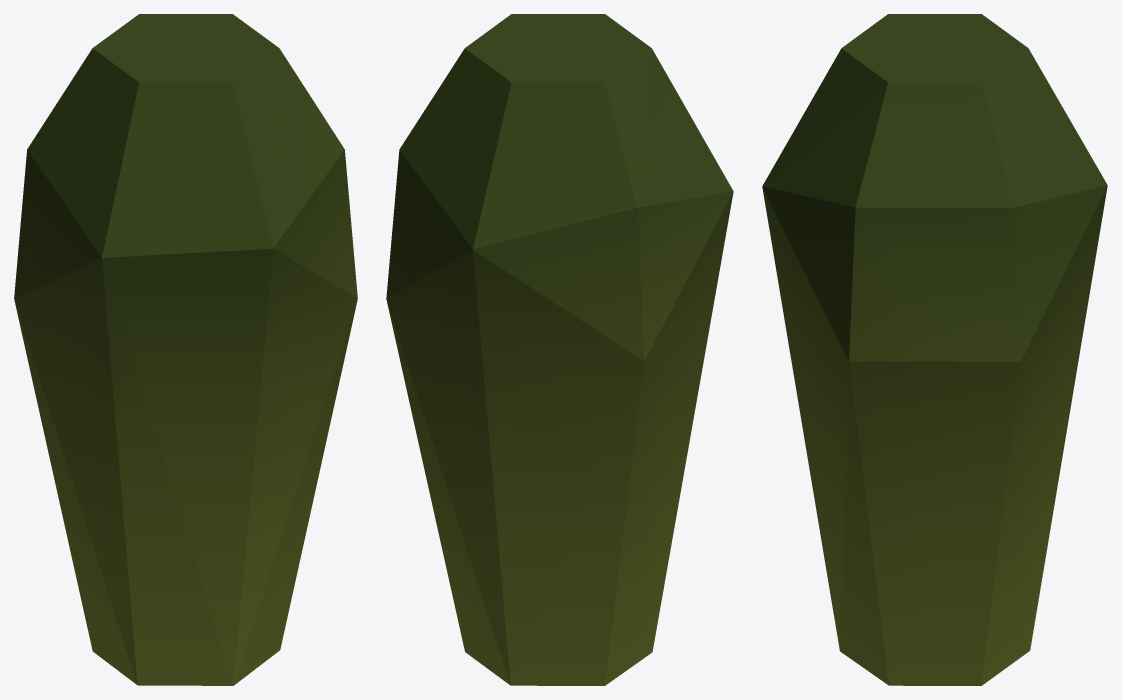
File: Mixed_Cactus_10.fbx
3 renders of one model, left to right at view 1: azimuth 30°, elevation 25°; view 2: azimuth 150°, elevation 25°; view 3: azimuth 270°, elevation 25°, orthographic.
Visible parts, largest first — view 1: Cactus_10.001; view 2: Cactus_10.001; view 3: Cactus_10.001.
Part boxes in pixels (<box>): Cactus_10.001: <box>14,14,357,685</box>; Cactus_10.001: <box>386,14,733,685</box>; Cactus_10.001: <box>762,14,1107,685</box>.
Size of the model in its own units: 84.93 by 189 by 98.27.
